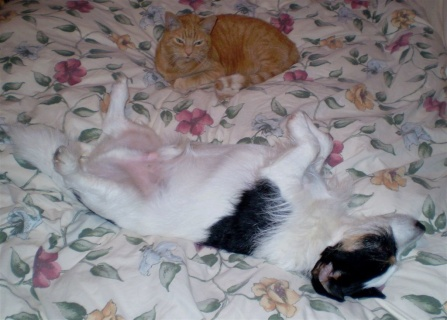Cat: (151, 10, 298, 100)
